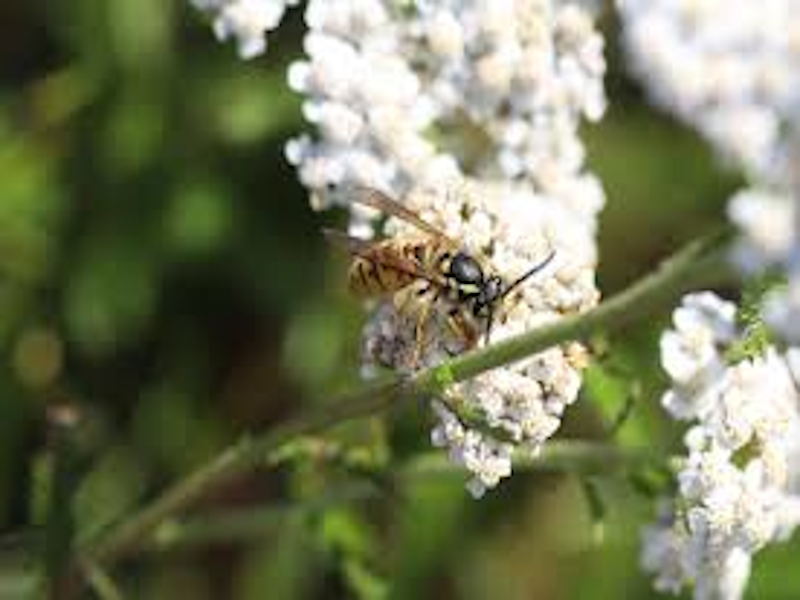chax: (303, 182, 569, 364)
